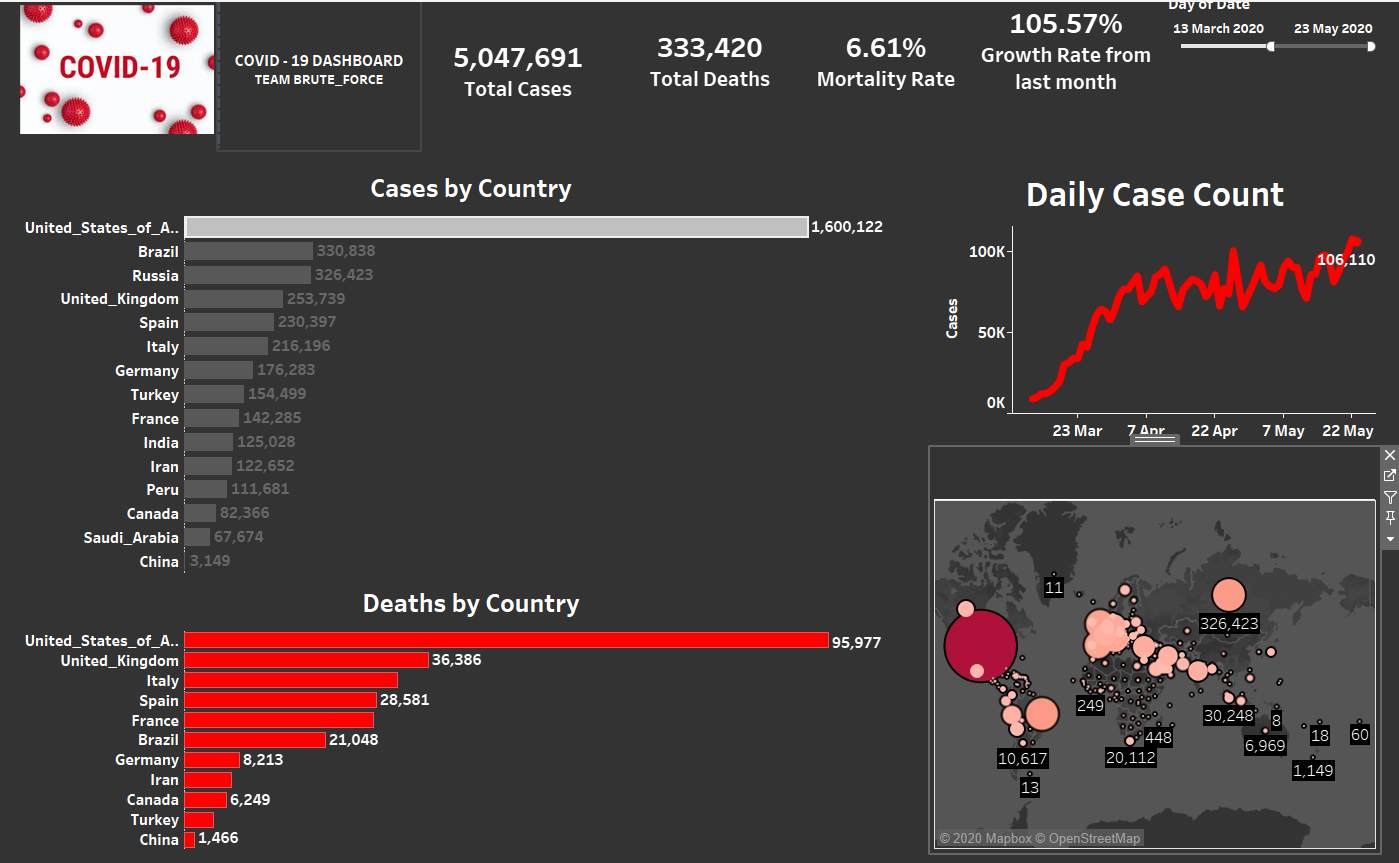

The dashboard page shown, as its layout file describes it:
{"tool":"tableau","page":{"name":"COVID 19 DASHBOARD","canvas":[1400,900],"ordinal":0},"visuals":[{"type":"image","param":"C:/Users/Elio/Desktop/IBMTableau/images.jpg","box":[16,16,202,161]},{"type":"text","box":[218,16,202,161]},{"type":"worksheet","title":"Total Cases","mark":"Automatic","box":[420,16,195,161]},{"type":"worksheet","title":"Total Deaths","mark":"Automatic","box":[615,16,190,161]},{"type":"worksheet","title":"Mortality Rate","mark":"Automatic","box":[805,16,162,161]},{"type":"worksheet","title":"Growth Rate","mark":"Automatic","box":[967,16,197,161]},{"type":"filter","title":"Daily Count","param":"[federated.0z6xhey0s7p7e71gadqfc1vugrgh].[tdy:dateRep:qk]","box":[1164,16,220,161]},{"type":"worksheet","title":"Cases per Country","mark":"Automatic","rows":["countriesAndTerritories"],"cols":["cases"],"box":[20,189,902,415]},{"type":"worksheet","title":"Daily Count","mark":"Automatic","rows":["cases"],"cols":["dateRep"],"box":[930,189,450,285]},{"type":"worksheet","title":"World Map","mark":"Automatic","box":[930,474,450,406]},{"type":"worksheet","title":"Deaths per Country","mark":"Automatic","rows":["countriesAndTerritories"],"cols":["deaths"],"box":[20,604,902,276]}]}

Visuals, with their boxes in screenshot pixels (x1, y1, x2, y2):
image: detection(175, 77, 359, 223)
text: detection(359, 77, 544, 223)
"Total Cases" worksheet: detection(544, 77, 722, 223)
"Total Deaths" worksheet: detection(722, 77, 895, 223)
"Mortality Rate" worksheet: detection(895, 77, 1043, 223)
"Growth Rate" worksheet: detection(1043, 77, 1223, 223)
"Daily Count" filter: detection(1223, 77, 1398, 223)
"Cases per Country" worksheet: detection(179, 234, 1002, 613)
"Daily Count" worksheet: detection(1009, 234, 1398, 494)
"World Map" worksheet: detection(1009, 494, 1398, 862)
"Deaths per Country" worksheet: detection(179, 613, 1002, 862)
